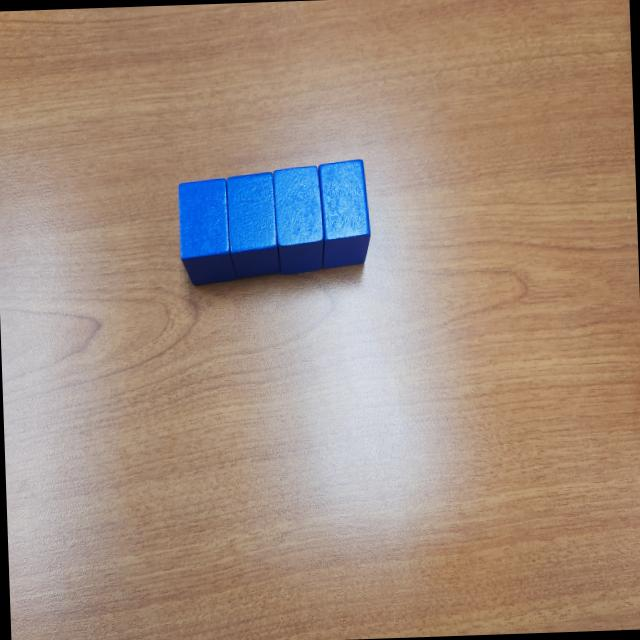blue: (272, 164, 326, 276), (177, 178, 232, 287), (224, 172, 279, 280), (318, 160, 372, 270)
